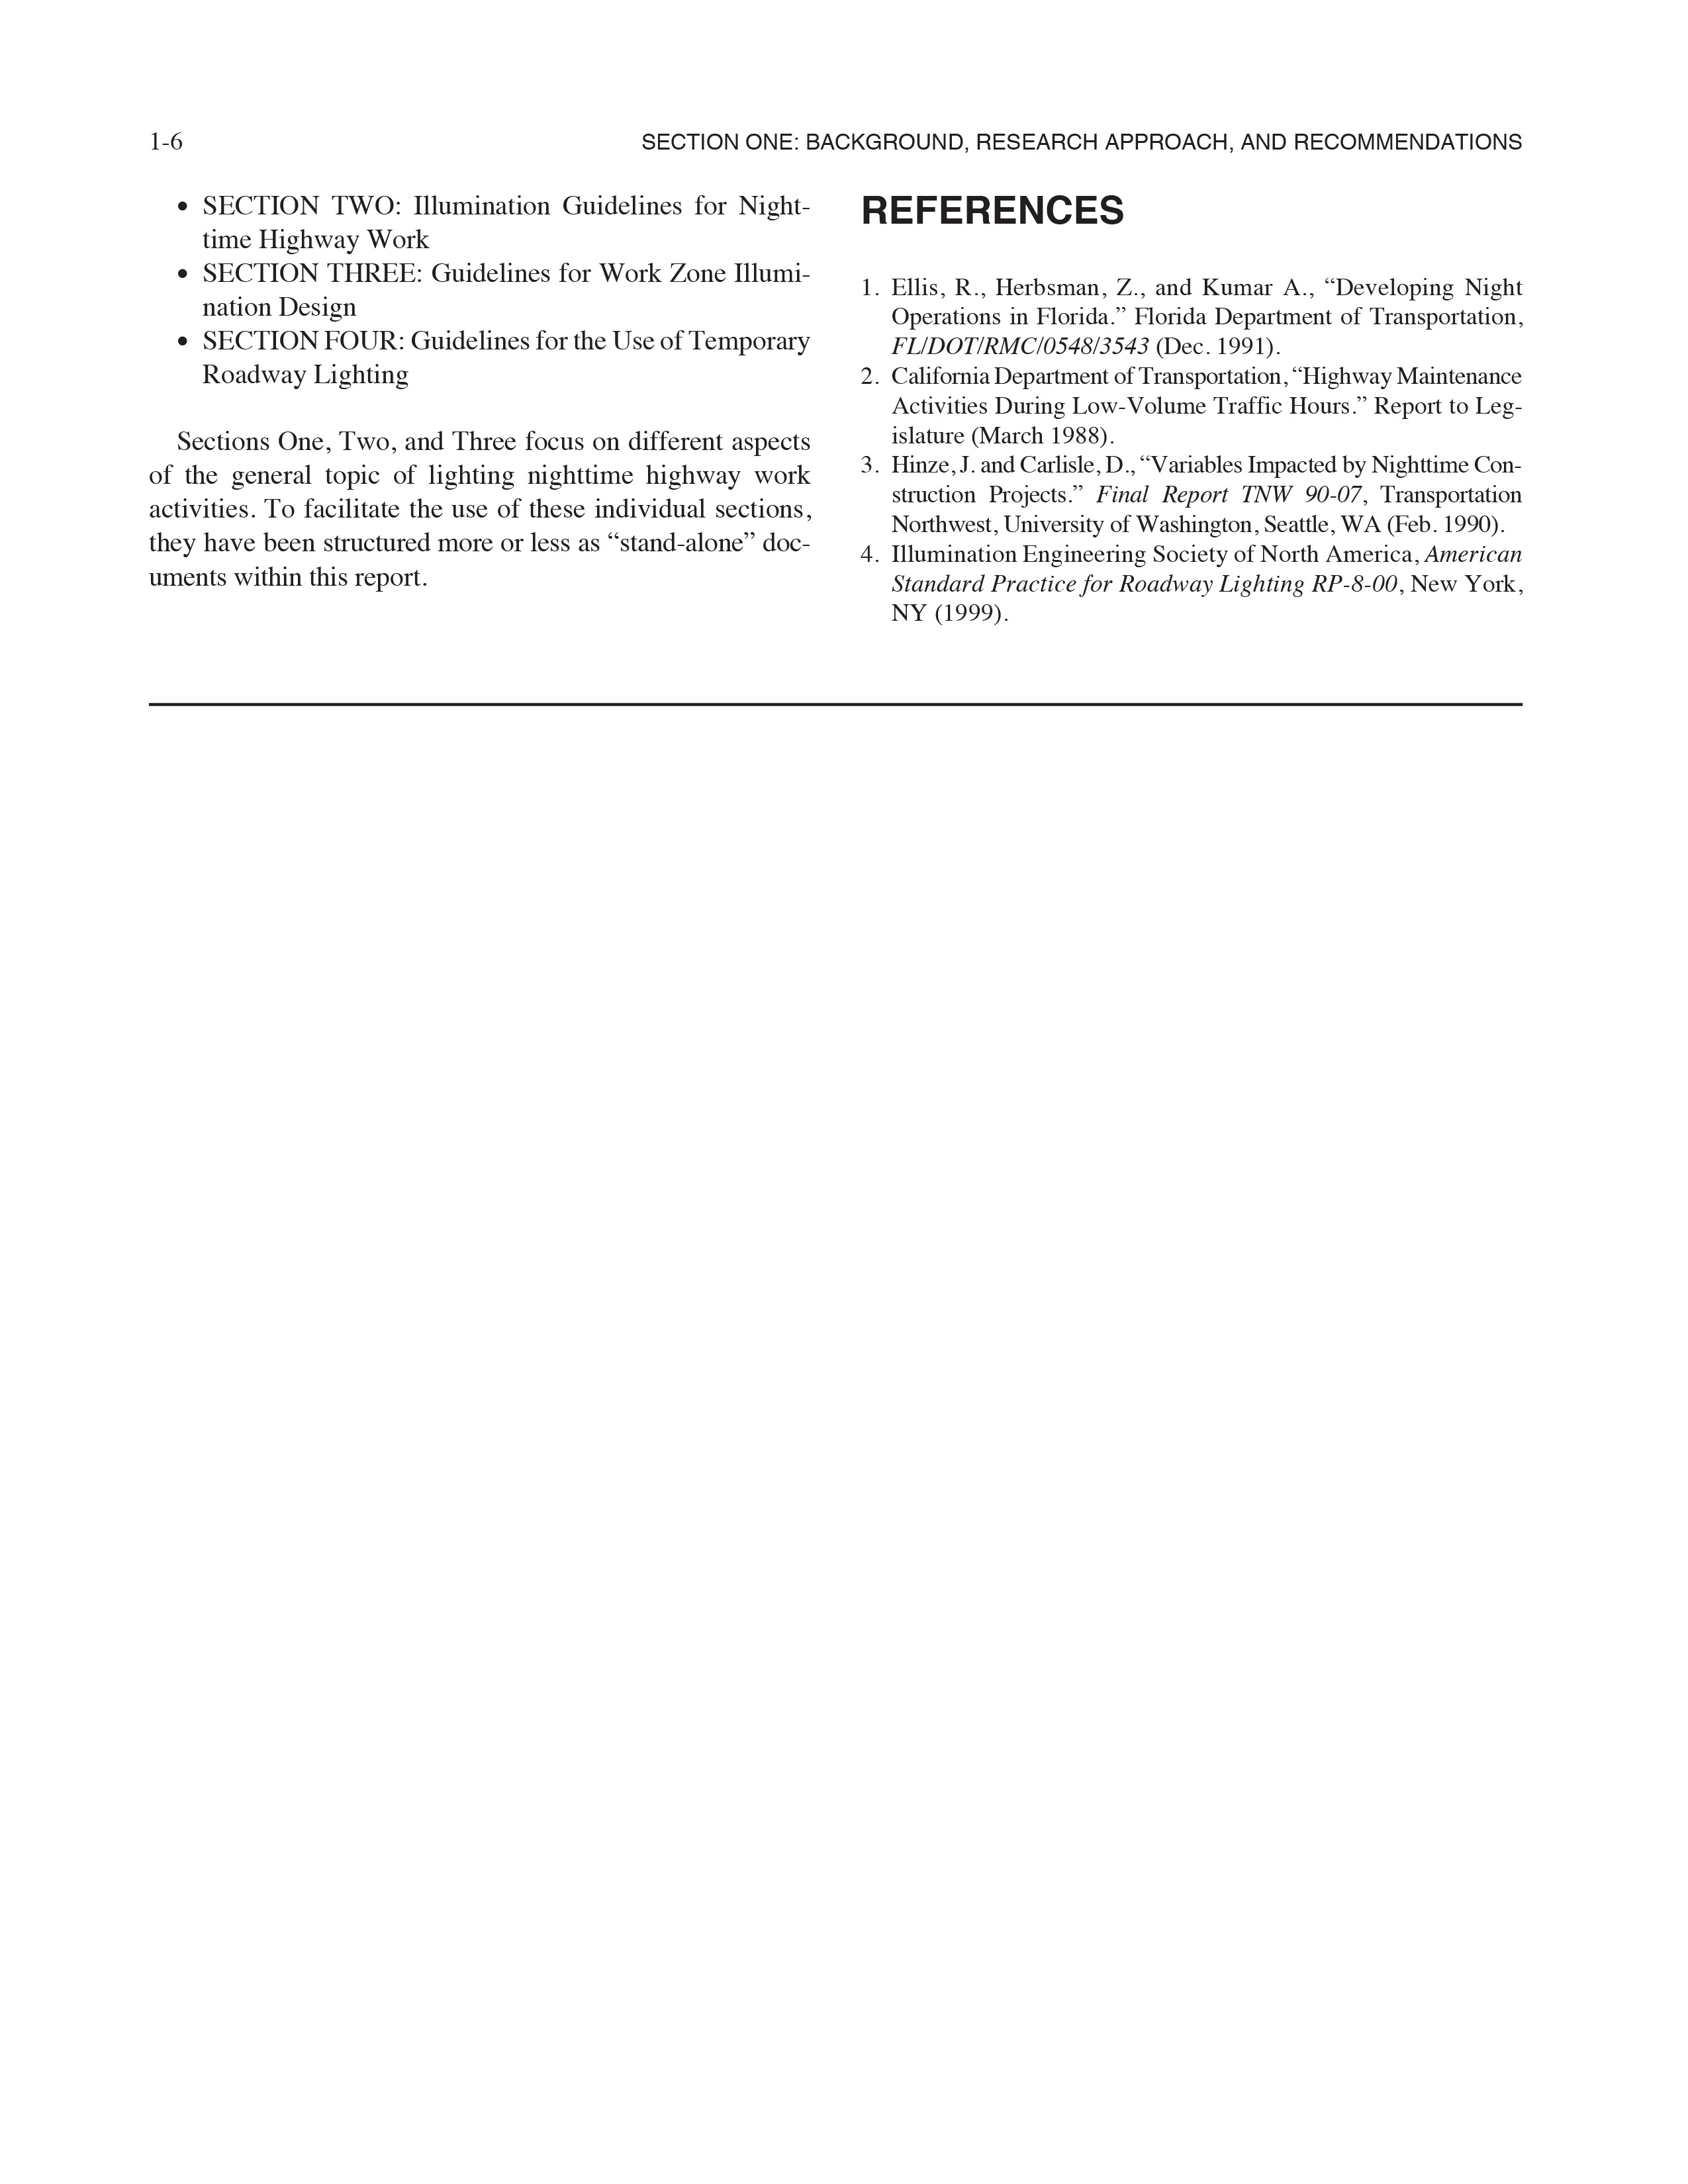list: (846, 264, 1543, 635), (179, 183, 819, 406)
section: (853, 175, 1153, 238)
text: (145, 424, 823, 592), (631, 133, 1534, 172)
